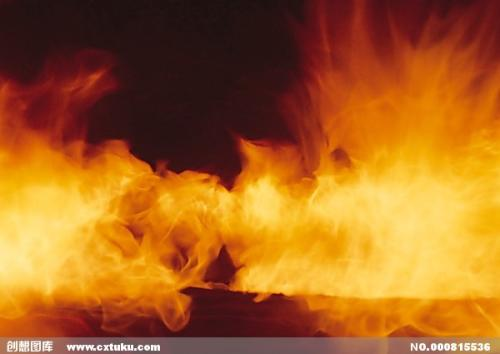fire: (254, 34, 490, 284), (5, 148, 220, 305)
